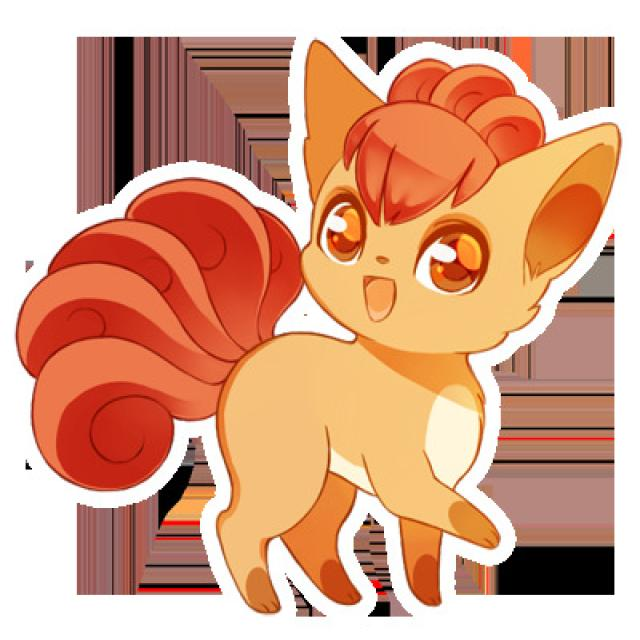Vulpix: (156, 65, 560, 598)
